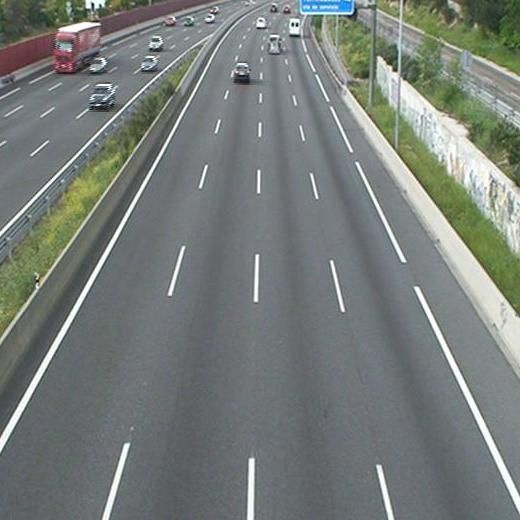car: (234, 63, 250, 79), (267, 35, 280, 48), (255, 17, 266, 28), (269, 3, 278, 12), (282, 5, 291, 12)
van: (288, 18, 301, 35)
